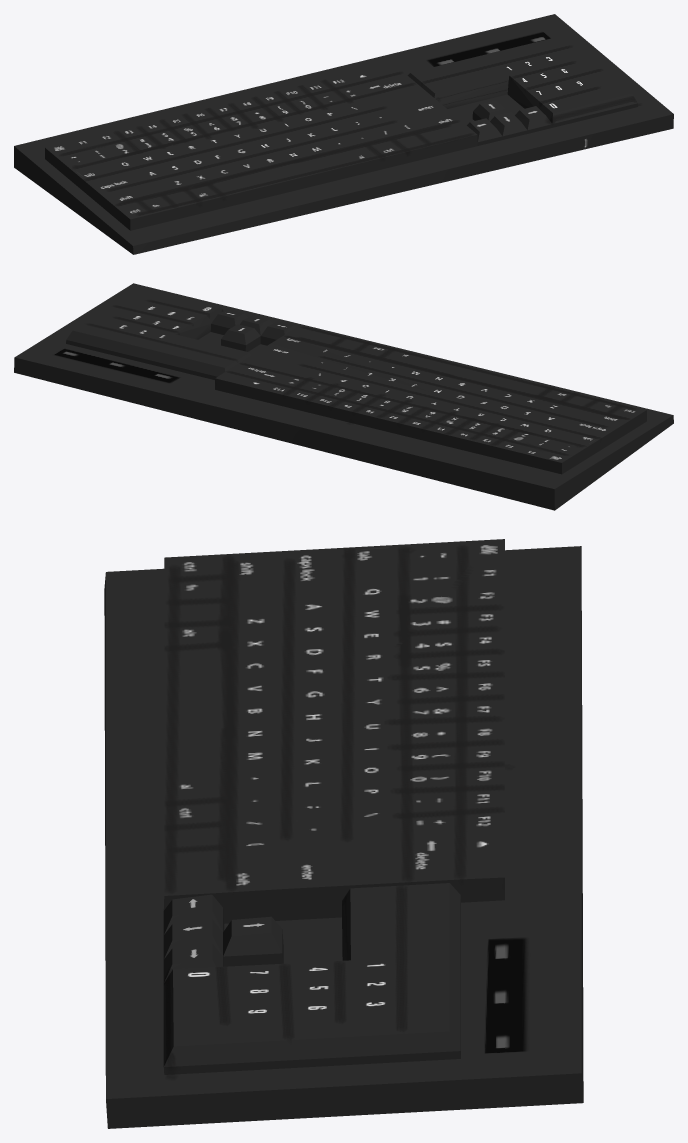
The model's file is Company_keyboard.fbx.
3 views of the same model, one above another, from view 1: azimuth 30°, elevation 25°; view 2: azimuth 150°, elevation 25°; view 3: azimuth 270°, elevation 25° (orthographic). The views are drawn at different scales.
Parts seen in each view (by area): view 1: Box449; view 2: Box449; view 3: Box449.
Part boxes in pixels (bbox=[...]): Box449: bbox=[14, 14, 673, 254]; Box449: bbox=[14, 283, 673, 510]; Box449: bbox=[104, 539, 583, 1128].
Size of the model in its own units: 0.5972 by 0.0392 by 0.2294.
1 material, 1 textured.
